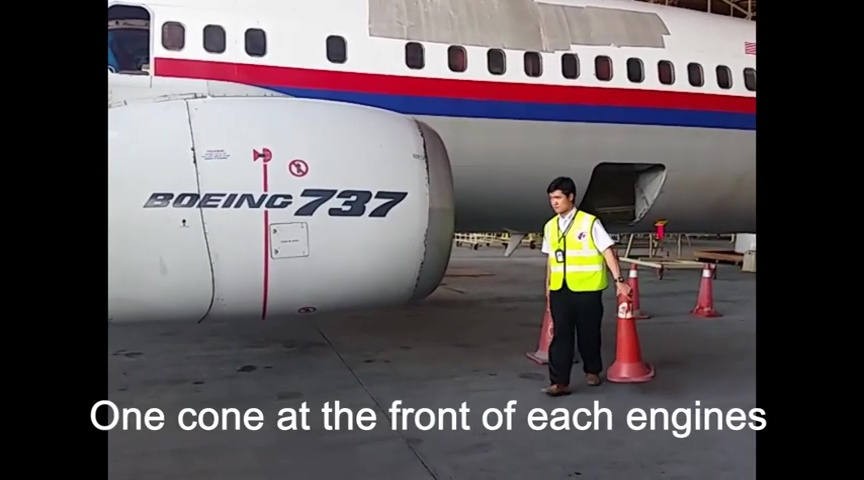safety_cone: (606, 289, 657, 386), (524, 278, 553, 364), (686, 262, 719, 318), (624, 264, 650, 321)
